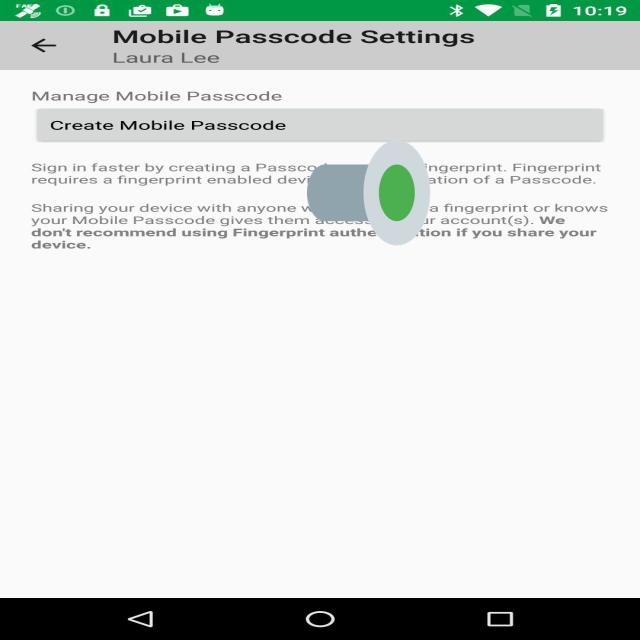social proof: (307, 96, 430, 290)
